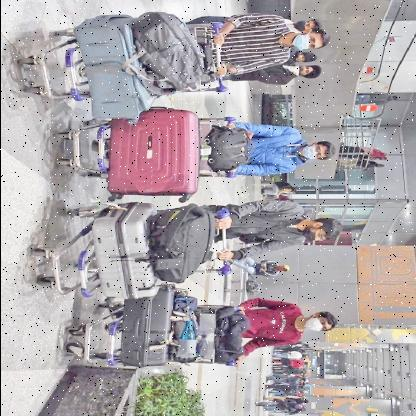airport-trolley: (12, 10, 229, 108), (25, 197, 231, 294), (49, 110, 240, 184), (58, 292, 240, 369)
